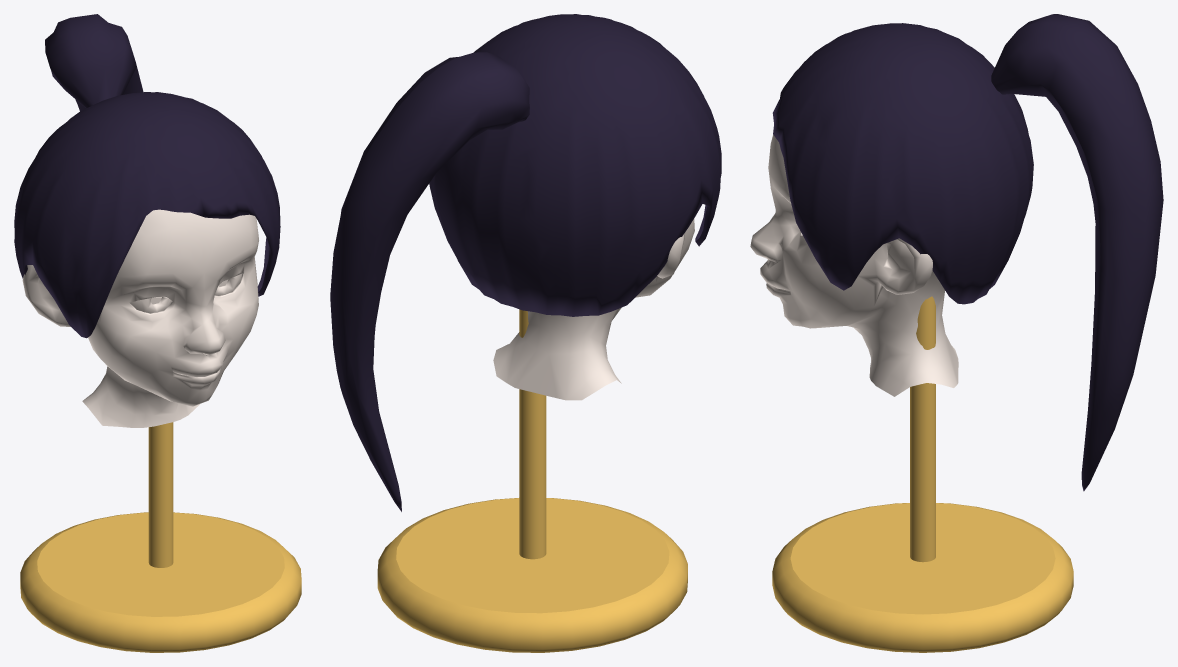
File: rain.hair.ink-sleek.glb
The picture shows the model from 3 angles, left to right: view 1: azimuth 30°, elevation 25°; view 2: azimuth 150°, elevation 25°; view 3: azimuth 270°, elevation 25°; orthographic projection. The views are drawn at different scales.
Parts seen in each view (by area): view 1: Hairstyles.ink-sleek.Crown, stand_base, GEO-rain-head, Hairstyles.ink-sleek.PonytailAnchor.Ponytail, stand_stem, GEO-rain-eyes; view 2: Hairstyles.ink-sleek.Crown, stand_base, Hairstyles.ink-sleek.PonytailAnchor.Ponytail, GEO-rain-head, stand_stem; view 3: Hairstyles.ink-sleek.Crown, stand_base, Hairstyles.ink-sleek.PonytailAnchor.Ponytail, GEO-rain-head, stand_stem.
Part boxes in pixels (x1,y1,x2,y2): Hairstyles.ink-sleek.Crown: [14, 92, 280, 338]; stand_base: [20, 512, 301, 652]; GEO-rain-head: [22, 209, 258, 427]; Hairstyles.ink-sleek.PonytailAnchor.Ponytail: [45, 14, 143, 111]; stand_stem: [148, 422, 173, 567]; GEO-rain-eyes: [130, 273, 241, 313]; Hairstyles.ink-sleek.Crown: [429, 14, 721, 316]; stand_base: [377, 498, 687, 652]; Hairstyles.ink-sleek.PonytailAnchor.Ponytail: [330, 52, 529, 511]; GEO-rain-head: [493, 218, 694, 400]; stand_stem: [519, 309, 546, 559]; Hairstyles.ink-sleek.Crown: [772, 23, 1033, 304]; stand_base: [772, 503, 1073, 652]; Hairstyles.ink-sleek.PonytailAnchor.Ponytail: [991, 14, 1163, 491]; GEO-rain-head: [750, 135, 958, 396]; stand_stem: [910, 296, 935, 562].
Bounding box in the file's own units: 0.3798 × 0.733 × 0.4804.
